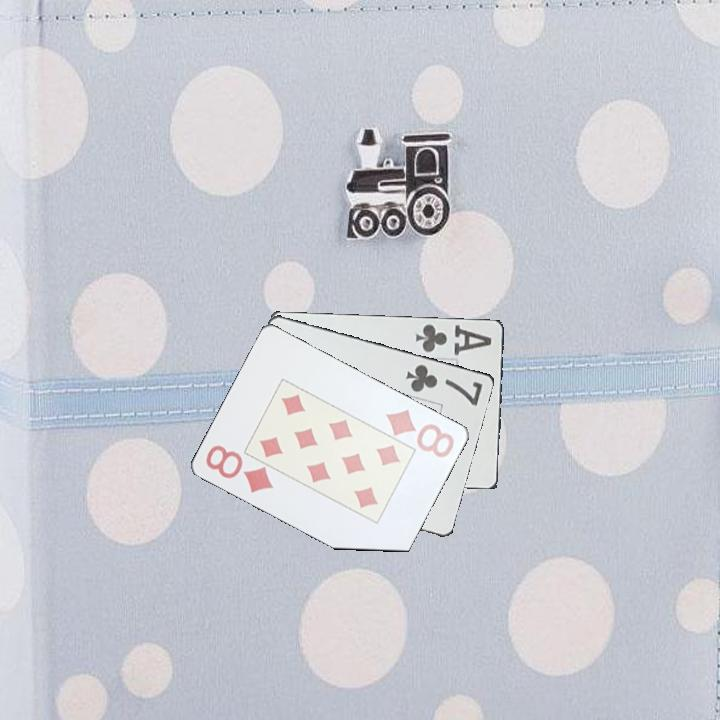7c: (402, 360, 486, 409)
8d: (382, 406, 458, 461), (203, 441, 277, 496)
Ac: (412, 319, 495, 358)
